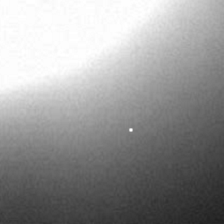Target: (127, 127, 134, 134)
